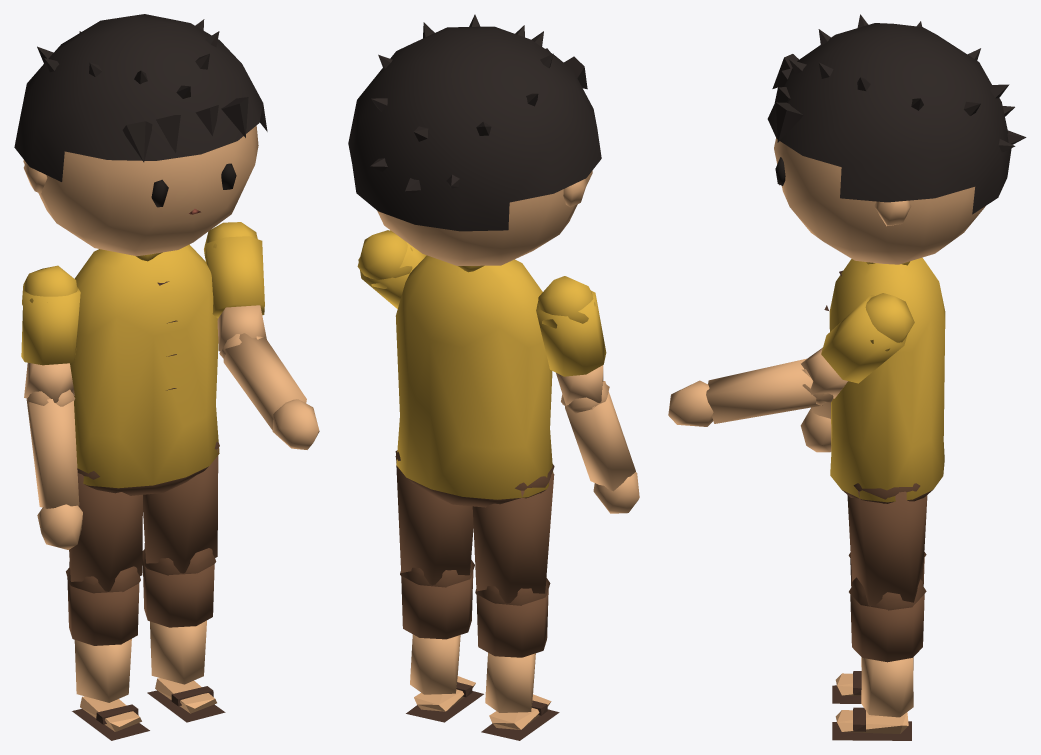
File: era2_samlor_rider.glb
The picture shows the model from 3 angles, left to right: view 1: azimuth 30°, elevation 25°; view 2: azimuth 150°, elevation 25°; view 3: azimuth 270°, elevation 25°; orthographic projection.
Parts seen in each view (by area): view 1: head, body, shin_R, shin_L, arm_R, leg_R, leg_L, forearm_R, arm_L, forearm_L; view 2: head, body, shin_R, shin_L, leg_R, arm_R, leg_L, forearm_R, arm_L; view 3: head, body, shin_L, leg_L, arm_L, forearm_L, forearm_R, shin_R.
Part boxes in pixels (bbox=[...]): head: bbox=[14, 14, 267, 256]; body: bbox=[70, 244, 219, 495]; shin_R: bbox=[67, 562, 149, 740]; shin_L: bbox=[142, 543, 225, 722]; arm_R: bbox=[21, 265, 80, 406]; leg_R: bbox=[66, 468, 142, 593]; leg_L: bbox=[142, 441, 219, 575]; forearm_R: bbox=[26, 391, 82, 549]; arm_L: bbox=[204, 222, 266, 358]; forearm_L: bbox=[223, 333, 319, 449]; head: bbox=[348, 14, 601, 265]; body: bbox=[395, 255, 553, 507]; shin_R: bbox=[476, 577, 559, 740]; shin_L: bbox=[401, 559, 483, 722]; leg_R: bbox=[472, 464, 554, 605]; arm_R: bbox=[536, 276, 609, 413]; leg_L: bbox=[395, 450, 474, 587]; forearm_R: bbox=[562, 381, 639, 513]; arm_L: bbox=[357, 230, 426, 308]; head: bbox=[767, 14, 1026, 264]; body: bbox=[824, 257, 945, 503]; shin_L: bbox=[832, 577, 924, 740]; leg_L: bbox=[847, 483, 927, 610]; arm_L: bbox=[801, 293, 914, 402]; forearm_L: bbox=[668, 358, 830, 426]; forearm_R: bbox=[800, 402, 831, 452]; shin_R: bbox=[832, 557, 924, 703].
Size of the model in its own units: 0.5619 by 1.47 by 0.7045.
